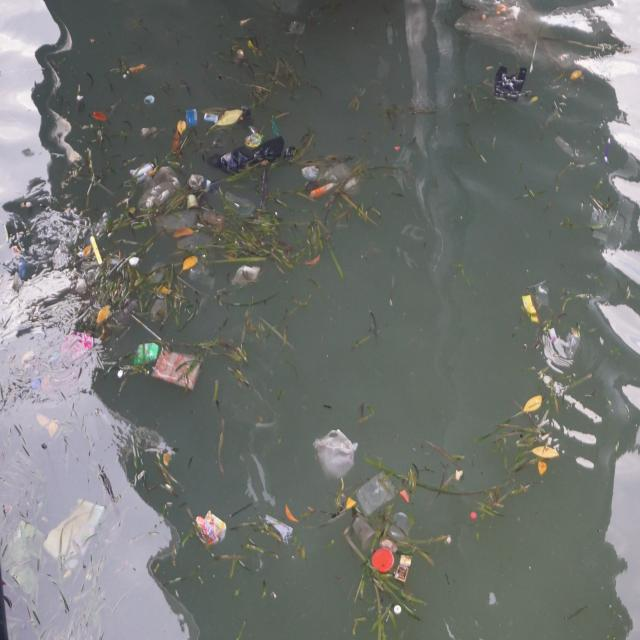Bungkus Makanan: (192, 507, 228, 551), (133, 340, 161, 370), (245, 125, 265, 150), (187, 110, 199, 129)
Bungkus Minuman: (352, 513, 377, 554), (205, 112, 222, 126), (145, 95, 156, 107)
Kantong Plastik: (314, 425, 359, 485), (220, 137, 286, 175), (300, 160, 363, 197), (154, 350, 202, 395), (356, 472, 400, 517), (234, 264, 261, 288)
